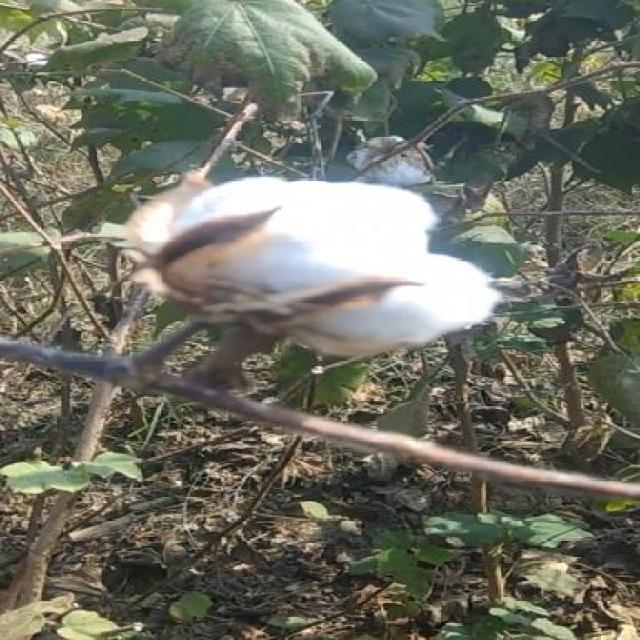cotton_ready: (93, 144, 521, 438)
